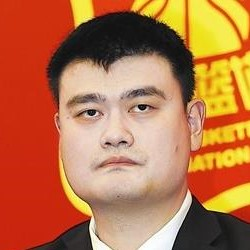unmask: (54, 78, 184, 201)
